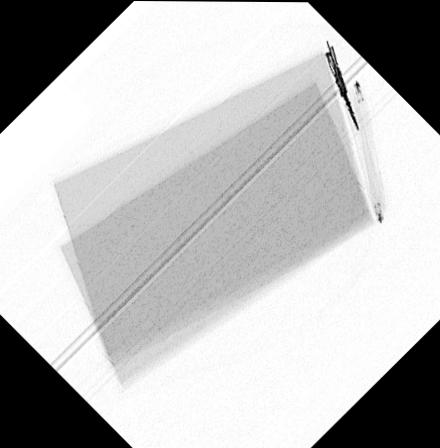Scissors: (322, 37, 358, 131)
